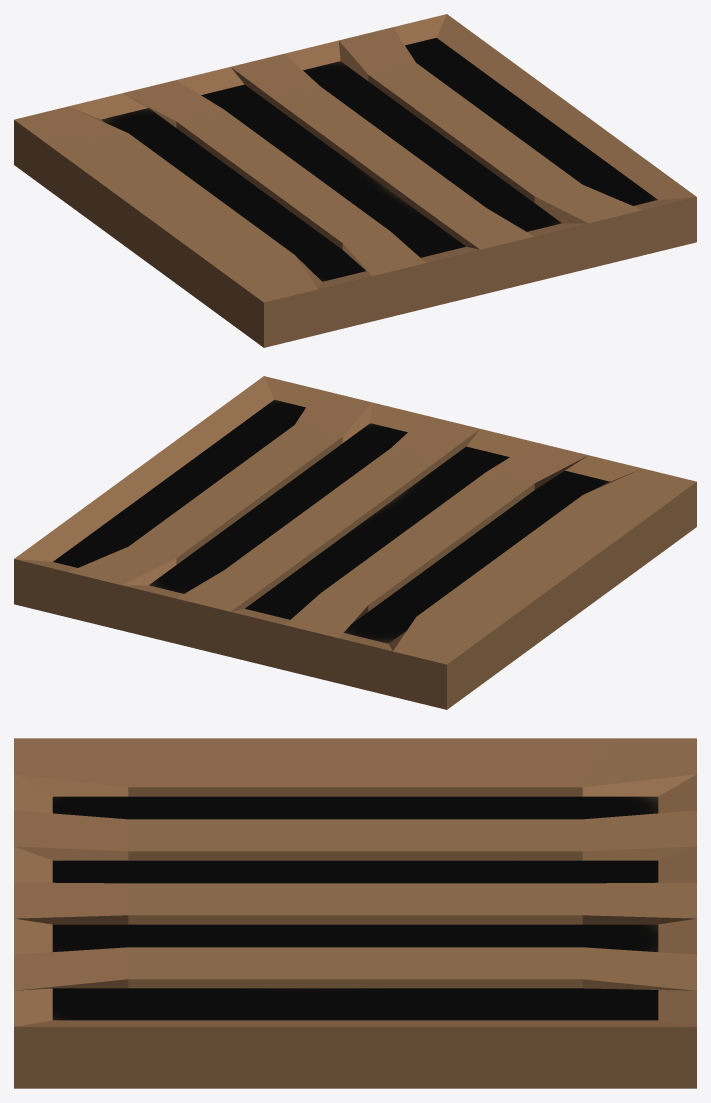
File: vent.obj
3 views of the same model, one above another, from view 1: azimuth 30°, elevation 25°; view 2: azimuth 150°, elevation 25°; view 3: azimuth 270°, elevation 25° (orthographic). The views are drawn at different scales.
Parts seen in each view (by area): view 1: Cube; view 2: Cube; view 3: Cube.
Part boxes in pixels (x1,y1,x2,y2): Cube: (14, 14, 696, 347); Cube: (14, 376, 696, 709); Cube: (14, 738, 696, 1088).
Bounding box in the file's own units: 2.26 × 0.2257 × 2.26.
